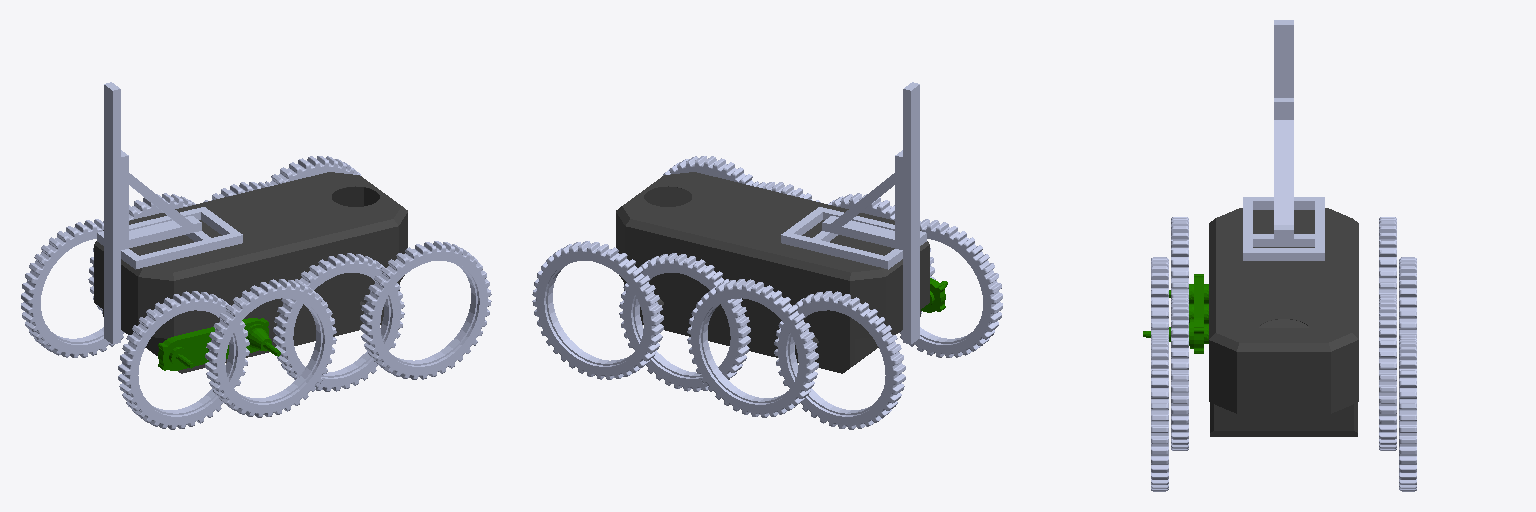
The robot description file, URDF, robot "asm_car_asm":
<?xml version="1.0" encoding="utf-8"?>
<!-- This URDF was automatically created by SolidWorks to URDF Exporter! Originally created by [author] ([email redacted])
     Commit Version: 1.5.1-0-g916b5db  Build Version: 1.5.7152.31018
     For more information, please see http://wiki.ros.org/sw_urdf_exporter -->
<robot
  name="asm_car_asm">
    <link name="base_footprint">
        <visual>
            <geometry>
                    <box size="0.001 0.001 0.001"/>
                </geometry>
            <origin rpy="0 0 0" xyz="0 0 0"/>
        </visual>
    </link>
    <joint name="base_footprint_joint" type="fixed">
        <origin xyz="0 0 0" />
        <parent link="base_footprint" />
        <child link="base_link" />
    </joint>
  <link
    name="base_link">
    <inertial>
      <origin
        xyz="1.049196782881E-15 -1.51734255681251E-15 -0.111330753346375"
        rpy="0 0 0" />
      <mass
        value="0.826691190957249" />
      <inertia
        ixx="0.0249975874157002"
        ixy="-7.52271136280225E-17"
        ixz="2.82864435855665E-17"
        iyy="0.0768556941113596"
        iyz="6.0659568181077E-17"
        izz="0.0969436158700248" />
    </inertial>
    <visual>
      <origin
        xyz="0 0 0"
        rpy="0 0 0" />
      <geometry>
        <mesh
          filename="package://asm_car_asm/meshes/base_link.STL" />
      </geometry>
      <material
        name="">
        <color
          rgba="0.313725490196078 0.313725490196078 0.313725490196078 1" />
      </material>
    </visual>
    <collision>
      <origin
        xyz="0 0 0"
        rpy="0 0 0" />
      <geometry>
        <mesh
          filename="package://asm_car_asm/meshes/base_link.STL" />
      </geometry>
    </collision>
  </link>
  <link
    name="body">
    <inertial>
      <origin
        xyz="0.00748877624058336 -1.40564993411333E-15 0.126875504146603"
        rpy="0 0 0" />
      <mass
        value="1.00302107294553" />
      <inertia
        ixx="0.0353961113249428"
        ixy="-5.66459128650649E-17"
        ixz="-0.000522977464601806"
        iyy="0.110631619010978"
        iyz="1.21496766163631E-17"
        izz="0.134718731941543" />
    </inertial>
    <visual>
      <origin
        xyz="0 0 0"
        rpy="0 0 0" />
      <geometry>
        <mesh
          filename="package://asm_car_asm/meshes/body.STL" />
      </geometry>
      <material
        name="">
        <color
          rgba="0.313725490196078 0.313725490196078 0.313725490196078 1" />
      </material>
    </visual>
    <collision>
      <origin
        xyz="0 0 0"
        rpy="0 0 0" />
      <geometry>
        <mesh
          filename="package://asm_car_asm/meshes/body.STL" />
      </geometry>
    </collision>
  </link>
  <joint
    name="body_joint"
    type="fixed">
    <origin
      xyz="0 0 0"
      rpy="0 0 3.1416" />
    <parent
      link="base_link" />
    <child
      link="body" />
    <axis
      xyz="0 0 0" />
  </joint>
  <link
    name="rack_Link">
    <inertial>
      <origin
        xyz="-1.79969614716557E-11 0.140184473428739 0.1757564007541"
        rpy="0 0 0" />
      <mass
        value="6.56017677903339" />
      <inertia
        ixx="0.170168272052352"
        ixy="-2.67547151839763E-12"
        ixz="-5.81828697036444E-12"
        iyy="0.147109365957286"
        iyz="0.00776074128079464"
        izz="0.0522121702201837" />
    </inertial>
    <visual>
      <origin
        xyz="0 0 0"
        rpy="0 0 0" />
      <geometry>
        <mesh
          filename="package://asm_car_asm/meshes/rack_Link.STL" />
      </geometry>
      <material
        name="">
        <color
          rgba="0.792156862745098 0.819607843137255 0.933333333333333 1" />
      </material>
    </visual>
    <collision>
      <origin
        xyz="0 0 0"
        rpy="0 0 0" />
      <geometry>
        <mesh
          filename="package://asm_car_asm/meshes/rack_Link.STL" />
      </geometry>
    </collision>
  </link>
  <joint
    name="rack_joint"
    type="fixed">
    <origin
      xyz="0.502 0 0.226"
      rpy="0 0 1.5708" />
    <parent
      link="body" />
    <child
      link="rack_Link" />
    <axis
      xyz="0 0 0" />
  </joint>
  <link
    name="FrontLeft_Link">
    <inertial>
      <origin
        xyz="-0.0162620694026895 0 -0.0208244147590206"
        rpy="0 0 0" />
      <mass
        value="1.79218615150526" />
      <inertia
        ixx="0.00265370284480665"
        ixy="-1.82350288041465E-19"
        ixz="-0.00144065197407825"
        iyy="0.0257376544776968"
        iyz="-9.25715958430322E-21"
        izz="0.0257584221294946" />
    </inertial>
    <visual>
      <origin
        xyz="0 0 0"
        rpy="0 0 0" />
      <geometry>
        <mesh
          filename="package://asm_car_asm/meshes/FrontLeft_Link.STL" />
      </geometry>
      <material
        name="">
        <color
          rgba="0.149019607843137 0.517647058823529 0 1" />
      </material>
    </visual>
    <collision>
      <origin
        xyz="0 0 0"
        rpy="0 0 0" />
      <geometry>
        <mesh
          filename="package://asm_car_asm/meshes/FrontLeft_Link.STL" />
      </geometry>
    </collision>
  </link>
  <joint
    name="FrontLeftJoint"
    type="continuous">
    <origin
      xyz="0.288 0.245 -0.066"
      rpy="-1.5708 0 3.1416" />
    <parent
      link="base_link" />
    <child
      link="FrontLeft_Link" />
    <axis
      xyz="0 0 1" />
	  <!--limit lower="0.0"
         upper="1.0"
         effort="10.0"
         velocity="5.0" /-->
<dynamics damping="0.7"/>
  <!-- Soft limits >
  <safety_controller k_position="0.8"
                     k_velocity="10"
                     soft_lower_limit="0.1"
                     soft_upper_limit="0.9" /-->
  </joint>
  <link
    name="FrontLeftWheel1">
    <inertial>
      <origin
        xyz="1.81663042386759E-08 4.16008616443975E-11 -5.16786613502518E-12"
        rpy="0 0 0" />
      <mass
        value="2.99405359774556" />
      <inertia
        ixx="0.125658758012625"
        ixy="-2.01511313553579E-10"
        ixz="1.2530514361123E-11"
        iyy="0.0635377250884112"
        iyz="2.93950370238922E-10"
        izz="0.0635377250888026" />
    </inertial>
    <visual>
      <origin
        xyz="0 0 0"
        rpy="0 0 0" />
      <geometry>
        <mesh
          filename="package://asm_car_asm/meshes/FrontLeftWheel1.STL" />
      </geometry>
      <material
        name="">
        <color
          rgba="0.792156862745098 0.819607843137255 0.933333333333333 1" />
      </material>
    </visual>
    <collision>
     <origin
        xyz="0 0 0"
        rpy="0 0 0" />
      <geometry>
        <mesh
          filename="package://asm_car_asm/meshes/FrontLeftWheel1.STL" />
	<!--cylinder length="0.055" radius="0.2325" /-->
      </geometry>
    </collision>
  </link>
  <joint
    name="FrontLeftJoint1"
    type="continuous">
    <origin
      xyz="-0.144 0 -0.1305"
      rpy="3.1416 1.5708 0" />
    <parent
      link="FrontLeft_Link" />
    <child
      link="FrontLeftWheel1" />
    <axis
      xyz="1 0 0" />
  </joint>
  <link
    name="FrontLeftWheel2">
    <inertial>
      <origin
        xyz="1.81663042386759E-08 4.1601042055639E-11 -5.16764409042025E-12"
        rpy="0 0 0" />
      <mass
        value="2.99405359774556" />
      <inertia
        ixx="0.125658758012625"
        ixy="-2.01511310493956E-10"
        ixz="1.25305206703153E-11"
        iyy="0.0635377250884112"
        iyz="2.9395036587968E-10"
        izz="0.0635377250888023" />
    </inertial>
    <visual>
      <origin
        xyz="0 0 0"
        rpy="0 0 0" />
      <geometry>
        <mesh
          filename="package://asm_car_asm/meshes/FrontLeftWheel2.STL" />
      </geometry>
      <material
        name="">
        <color
          rgba="0.792156862745098 0.819607843137255 0.933333333333333 1" />
      </material>
    </visual>
    <collision>
      <origin
        xyz="0 0 0"
        rpy="0 0 0" />
      <geometry>
        <mesh
          filename="package://asm_car_asm/meshes/FrontLeftWheel2.STL" />
	<!--cylinder length="0.055" radius="0.2325" /-->
      </geometry>
    </collision>
  </link>
  <joint
    name="FrontLeftJoint2"
    type="continuous">
    <origin
      xyz="0.144 0 -0.0695"
      rpy="3.1416 1.5708 0" />
    <parent
      link="FrontLeft_Link" />
    <child
      link="FrontLeftWheel2" />
    <axis
      xyz="1 0 0" />
  </joint>
  <link
    name="FrontRightLink">
    <inertial>
      <origin
        xyz="-0.0162620694026895 0 -0.0208244147590206"
        rpy="0 0 0" />
      <mass
        value="1.79218615150526" />
      <inertia
        ixx="0.00265370284480666"
        ixy="-3.74712782633937E-19"
        ixz="-0.00144065197407825"
        iyy="0.0257376544776969"
        iyz="3.55274614255389E-19"
        izz="0.0257584221294946" />
    </inertial>
    <visual>
      <origin
        xyz="0 0 0"
        rpy="0 0 0" />
      <geometry>
        <mesh
          filename="package://asm_car_asm/meshes/FrontRightLink.STL" />
      </geometry>
      <material
        name="">
        <color
          rgba="0.149019607843137 0.517647058823529 0 1" />
      </material>
    </visual>
    <collision>
      <origin
        xyz="0 0 0"
        rpy="0 0 0" />
      <geometry>
        <mesh
          filename="package://asm_car_asm/meshes/FrontRightLink.STL" />
      </geometry>
    </collision>
  </link>
  <joint
    name="FrontRightJoint"
    type="revolute">
    <origin
      xyz="0.288 -0.245 -0.066"
      rpy="1.5707963267949 0 3.14159265358979" />
    <parent
      link="base_link" />
    <child
      link="FrontRightLink" />
        <axis
      xyz="0 0 1" />
	  <limit lower="0.0"
         upper="1.0"
         effort="10.0"
         velocity="5.0" />
<dynamics damping="5.0" friction="1.0"/>
  <!-- Soft limits >
  <safety_controller k_position="0.8"
                     k_velocity="10"
                     soft_lower_limit="0.1"
                     soft_upper_limit="0.9" /-->
  </joint>
  <link
    name="FrontRightWheel1">
    <inertial>
      <origin
        xyz="1.81663041831648E-08 -4.16008616443975E-11 5.16786613502518E-12"
        rpy="0 0 0" />
      <mass
        value="2.99405359774556" />
      <inertia
        ixx="0.125658758012625"
        ixy="2.01511299412951E-10"
        ixz="-1.25305170682696E-11"
        iyy="0.0635377250884111"
        iyz="2.9395040736196E-10"
        izz="0.0635377250888023" />
    </inertial>
    <visual>
      <origin
        xyz="0 0 0"
        rpy="0 0 0" />
      <geometry>
        <mesh
          filename="package://asm_car_asm/meshes/FrontRightWheel1.STL" />
      </geometry>
      <material
        name="">
        <color
          rgba="0.792156862745098 0.819607843137255 0.933333333333333 1" />
      </material>
    </visual>
    <collision>
      <origin
        xyz="0 0 0"
        rpy="0 0 0" />
      <geometry>
        <mesh
          filename="package://asm_car_asm/meshes/FrontRightWheel1.STL" />
	<!--cylinder length="0.055" radius="0.2325" /-->
      </geometry>
    </collision>
  </link>
  <joint
    name="FrontRightJoint1"
    type="continuous">
    <origin
      xyz="-0.144 0 -0.1305"
      rpy="0 1.5708 0" />
    <parent
      link="FrontRightLink" />
    <child
      link="FrontRightWheel1" />
    <axis
      xyz="1 0 0" />
  </joint>
  <link
    name="FrontRightWheel2">
    <inertial>
      <origin
        xyz="1.81663042941871E-08 -4.16010004222755E-11 5.16781062387395E-12"
        rpy="0 0 0" />
      <mass
        value="2.99405359774555" />
      <inertia
        ixx="0.125658758012625"
        ixy="2.01511305900651E-10"
        ixz="-1.25305184086115E-11"
        iyy="0.0635377250884111"
        iyz="2.93950405009459E-10"
        izz="0.0635377250888022" />
    </inertial>
    <visual>
      <origin
        xyz="0 0 0"
        rpy="0 0 0" />
      <geometry>
        <mesh
          filename="package://asm_car_asm/meshes/FrontRightWheel2.STL" />
      </geometry>
      <material
        name="">
        <color
          rgba="0.792156862745098 0.819607843137255 0.933333333333333 1" />
      </material>
    </visual>
    <collision>
      <origin
        xyz="0 0 0"
        rpy="0 0 0" />
      <geometry>
        <mesh
          filename="package://asm_car_asm/meshes/FrontRightWheel2.STL" />
	<!--cylinder length="0.055" radius="0.2325" /-->
      </geometry>
    </collision>
  </link>
  <joint
    name="FrontRightJoint2"
    type="continuous">
    <origin
      xyz="0.144 0 -0.0695"
      rpy="0 1.5708 0" />
    <parent
      link="FrontRightLink" />
    <child
      link="FrontRightWheel2" />
    <axis
      xyz="1 0 0" />
  </joint>
  <link
    name="BackRightLink">
    <inertial>
      <origin
        xyz="-0.0162620694026895 0 -0.0208244147590207"
        rpy="0 0 0" />
      <mass
        value="1.79218615150526" />
      <inertia
        ixx="0.00265370284480667"
        ixy="-5.70386703967181E-19"
        ixz="-0.00144065197407825"
        iyy="0.0257376544776968"
        iyz="1.19797750715368E-19"
        izz="0.0257584221294946" />
    </inertial>
    <visual>
      <origin
        xyz="0 0 0"
        rpy="0 0 0" />
      <geometry>
        <mesh
          filename="package://asm_car_asm/meshes/BackRightLink.STL" />
      </geometry>
      <material
        name="">
        <color
          rgba="0.149019607843137 0.517647058823529 0 1" />
      </material>
    </visual>
    <collision>
      <origin
        xyz="0 0 0"
        rpy="0 0 0" />
      <geometry>
        <mesh
          filename="package://asm_car_asm/meshes/BackRightLink.STL" />
      </geometry>
    </collision>
  </link>
  <joint
    name="BackRightJoint"
    type="revolute">
    <origin
      xyz="-0.288 -0.245 -0.066"
      rpy="1.5707963267949 0 3.14159265358979" />
    <parent
      link="base_link" />
    <child
      link="BackRightLink" />
        <axis
      xyz="0 0 1" />
	  <limit lower="0.0"
         upper="1.0"
         effort="10.0"
         velocity="5.0" />
<dynamics damping="5.0" friction="1.0"/>
  <!-- Soft limits >
  <safety_controller k_position="0.8"
                     k_velocity="10"
                     soft_lower_limit="0.1"
                     soft_upper_limit="0.9" /-->
  </joint>
  <link
    name="BackRightWheel1">
    <inertial>
      <origin
        xyz="1.81663042386759E-08 -4.16009726666999E-11 5.16769960157148E-12"
        rpy="0 0 0" />
      <mass
        value="2.99405359774556" />
      <inertia
        ixx="0.125658758012625"
        ixy="2.0151130103845E-10"
        ixz="-1.25305176970732E-11"
        iyy="0.0635377250884111"
        iyz="2.93950427391312E-10"
        izz="0.0635377250888023" />
    </inertial>
    <visual>
      <origin
        xyz="0 0 0"
        rpy="0 0 0" />
      <geometry>
        <mesh
          filename="package://asm_car_asm/meshes/BackRightWheel1.STL" />
      </geometry>
      <material
        name="">
        <color
          rgba="0.792156862745098 0.819607843137255 0.933333333333333 1" />
      </material>
    </visual>
    <collision>
      <origin
        xyz="0 0 0"
        rpy="0 0 0" />
      <geometry>
        <mesh
          filename="package://asm_car_asm/meshes/BackRightWheel1.STL" />
	<!--cylinder length="0.055" radius="0.2325" /-->
      </geometry>
    </collision>
  </link>
  <joint
    name="BackRightJoint1"
    type="continuous">
    <origin
      xyz="0.144 0 -0.0695"
      rpy="0 1.5708 0" />
    <parent
      link="BackRightLink" />
    <child
      link="BackRightWheel1" />
    <axis
      xyz="1 0 0" />
  </joint>
  <link
    name="BackRightWheel2">
    <inertial>
      <origin
        xyz="1.81663041831648E-08 -4.16009449111243E-11 5.16756082369341E-12"
        rpy="0 0 0" />
      <mass
        value="2.99405359774556" />
      <inertia
        ixx="0.125658758012625"
        ixy="2.01511303939349E-10"
        ixz="-1.25305217685236E-11"
        iyy="0.0635377250884112"
        iyz="2.93950344762586E-10"
        izz="0.0635377250888024" />
    </inertial>
    <visual>
      <origin
        xyz="0 0 0"
        rpy="0 0 0" />
      <geometry>
        <mesh
          filename="package://asm_car_asm/meshes/BackRightWheel2.STL" />
      </geometry>
      <material
        name="">
        <color
          rgba="0.792156862745098 0.819607843137255 0.933333333333333 1" />
      </material>
    </visual>
    <collision>
      <origin
        xyz="0 0 0"
        rpy="0 0 0" />
      <geometry>
         <mesh
          filename="package://asm_car_asm/meshes/BackRightWheel2.STL" />
	<!--cylinder length="0.055" radius="0.2325" /-->
      </geometry>
    </collision>
  </link>
  <joint
    name="BackRightJoint2"
    type="continuous">
    <origin
      xyz="-0.144 0 -0.1305"
      rpy="0 1.5707963267949 0" />
    <parent
      link="BackRightLink" />
    <child
      link="BackRightWheel2" />
    <axis
      xyz="1 0 0" />
  </joint>
  <link
    name="BackLeftLink">
    <inertial>
      <origin
        xyz="-0.0162620694026895 0 -0.0208244147590206"
        rpy="0 0 0" />
      <mass
        value="1.79218615150526" />
      <inertia
        ixx="0.00265370284480667"
        ixy="-3.67474297666951E-19"
        ixz="-0.00144065197407825"
        iyy="0.0257376544776968"
        iyz="-4.77872464621038E-20"
        izz="0.0257584221294946" />
    </inertial>
    <visual>
      <origin
        xyz="0 0 0"
        rpy="0 0 0" />
      <geometry>
        <mesh
          filename="package://asm_car_asm/meshes/BackLeftLink.STL" />
      </geometry>
      <material
        name="">
        <color
          rgba="0.149019607843137 0.517647058823529 0 1" />
      </material>
    </visual>
    <collision>
      <origin
        xyz="0 0 0"
        rpy="0 0 0" />
      <geometry>
        <mesh
          filename="package://asm_car_asm/meshes/BackLeftLink.STL" />
      </geometry>
    </collision>
  </link>
  <joint
    name="BackLeftJoint"
    type="revolute">
    <origin
      xyz="-0.288 0.245 -0.066"
      rpy="-1.5707963267949 0 3.14159265358979" />
    <parent
      link="base_link" />
    <child
      link="BackLeftLink" />
        <axis
      xyz="0 0 1" />
	  <limit lower="0.0"
         upper="1.0"
         effort="10.0"
         velocity="5.0" />
<dynamics damping="5.0" friction="1.0"/>
  <!-- Soft limits >
  <safety_controller k_position="0.8"
                     k_velocity="10"
                     soft_lower_limit="0.1"
                     soft_upper_limit="0.9" /-->
  </joint>
  <link
    name="BackLeftWheel1">
    <inertial>
      <origin
        xyz="1.81663042386759E-08 4.16006534775804E-11 -5.16764409042025E-12"
        rpy="0 0 0" />
      <mass
        value="2.99405359774556" />
      <inertia
        ixx="0.125658758012625"
        ixy="-2.01511301505588E-10"
        ixz="1.25305158858522E-11"
        iyy="0.0635377250884111"
        iyz="2.93950405965679E-10"
        izz="0.0635377250888024" />
    </inertial>
    <visual>
      <origin
        xyz="0 0 0"
        rpy="0 0 0" />
      <geometry>
        <mesh
          filename="package://asm_car_asm/meshes/BackLeftWheel1.STL" />
      </geometry>
      <material
        name="">
        <color
          rgba="0.792156862745098 0.819607843137255 0.933333333333333 1" />
      </material>
    </visual>
    <collision>
      <origin
        xyz="0 0 0"
        rpy="0 0 0" />
      <geometry>
        <mesh
          filename="package://asm_car_asm/meshes/FrontLeftWheel2.STL" />
	<!--cylinder length="0.055" radius="0.2325" /-->
      </geometry>
    </collision>
  </link>
  <joint
    name="BackLeftJoint1"
    type="continuous">
    <origin
      xyz="0.144 0 -0.0695"
      rpy="3.1416 1.5708 0" />
    <parent
      link="BackLeftLink" />
    <child
      link="BackLeftWheel1" />
    <axis
      xyz="1 0 0" />
  </joint>
  <link
    name="BackLeftWheel2">
    <inertial>
      <origin
        xyz="1.81663042386759E-08 4.16010698112146E-11 -5.16789389060079E-12"
        rpy="0 0 0" />
      <mass
        value="2.99405359774556" />
      <inertia
        ixx="0.125658758012626"
        ixy="-2.01511304261986E-10"
        ixz="1.25305150788844E-11"
        iyy="0.0635377250884114"
        iyz="2.93950421854165E-10"
        izz="0.0635377250888025" />
    </inertial>
    <visual>
      <origin
        xyz="0 0 0"
        rpy="0 0 0" />
      <geometry>
        <mesh
          filename="package://asm_car_asm/meshes/BackLeftWheel2.STL" />
      </geometry>
      <material
        name="">
        <color
          rgba="0.792156862745098 0.819607843137255 0.933333333333333 1" />
      </material>
    </visual>
    <collision>
      <origin
        xyz="0 0 0"
        rpy="0 0 0" />
      <geometry>
        <mesh
          filename="package://asm_car_asm/meshes/FrontLeftWheel2.STL" />
	<!--cylinder length="0.055" radius="0.2325" /-->
      </geometry>
    </collision>
  </link>
  <joint
    name="BackLeftJoint2"
    type="continuous">
    <origin
      xyz="-0.144 0 -0.1305"
      rpy="3.14159265358979 1.5707963267949 0" />
    <parent
      link="BackLeftLink" />
    <child
      link="BackLeftWheel2" />
    <axis
      xyz="1 0 0" />
  </joint>
</robot>

--- What the picture shows (computed from the rendered views, not written in the file) ---
3 views of the same robot in one strip: view 1: azimuth 30°, elevation 25°; view 2: azimuth 150°, elevation 25°; view 3: azimuth 270°, elevation 25° (orthographic).
Robot: asm_car_asm — 16 links, 15 joints (3 revolute, 9 continuous, 3 fixed); root link base_footprint; default pose: every joint at zero.
Links seen in each view (by area): view 1: body, rack_Link, BackRightWheel2, FrontRightWheel1, BackRightWheel1, FrontRightWheel2, BackLeftWheel1, BackRightLink, base_link, FrontLeftWheel1, BackLeftWheel2; view 2: body, rack_Link, BackLeftWheel2, FrontLeftWheel1, BackLeftWheel1, FrontLeftWheel2, base_link, BackRightWheel1, FrontRightWheel1, BackRightWheel2, BackRightLink; view 3: body, rack_Link, base_link, FrontLeftWheel1, FrontRightWheel1, FrontLeftWheel2, FrontRightWheel2, BackRightLink, BackRightWheel1, BackLeftWheel1, BackRightWheel2, BackLeftWheel2.
Boxes of the visible links, <box> form: body: <box>94,172,407,338</box>; rack_Link: <box>97,82,242,344</box>; BackRightWheel2: <box>205,279,336,417</box>; FrontRightWheel1: <box>360,241,491,379</box>; BackRightWheel1: <box>118,291,249,429</box>; FrontRightWheel2: <box>273,253,404,391</box>; BackLeftWheel1: <box>21,219,124,357</box>; BackRightLink: <box>158,318,280,370</box>; base_link: <box>103,283,399,373</box>; FrontLeftWheel1: <box>265,156,360,185</box>; BackLeftWheel2: <box>88,193,195,313</box>; body: <box>616,172,929,338</box>; rack_Link: <box>781,82,926,344</box>; BackLeftWheel2: <box>687,279,818,417</box>; FrontLeftWheel1: <box>532,241,663,379</box>; BackLeftWheel1: <box>774,291,905,429</box>; FrontLeftWheel2: <box>619,253,750,391</box>; base_link: <box>624,283,920,373</box>; BackRightWheel1: <box>899,219,1002,357</box>; FrontRightWheel1: <box>663,156,758,185</box>; BackRightWheel2: <box>828,193,935,313</box>; BackRightLink: <box>921,278,947,312</box>; body: <box>1209,208,1358,413</box>; rack_Link: <box>1243,20,1324,260</box>; base_link: <box>1210,319,1357,436</box>; FrontLeftWheel1: <box>1399,338,1416,491</box>; FrontRightWheel1: <box>1151,338,1168,491</box>; FrontLeftWheel2: <box>1379,298,1396,450</box>; FrontRightWheel2: <box>1171,298,1188,450</box>; BackRightLink: <box>1143,274,1208,353</box>; BackRightWheel1: <box>1171,217,1188,298</box>; BackLeftWheel1: <box>1379,217,1396,298</box>; BackRightWheel2: <box>1151,257,1168,338</box>; BackLeftWheel2: <box>1399,257,1416,338</box>.
Size in the robot's own frame: 1.33 by 0.83 by 1.1 metres.
12 mesh visuals loaded from 15 distinct referenced files (12 binary STL); not drawn: 3 (reference not matched to a file when rendering).
